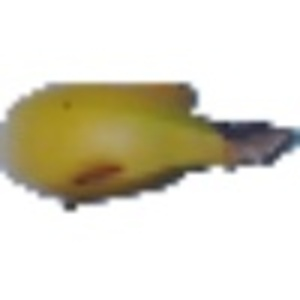banana: (3, 75, 289, 204)
